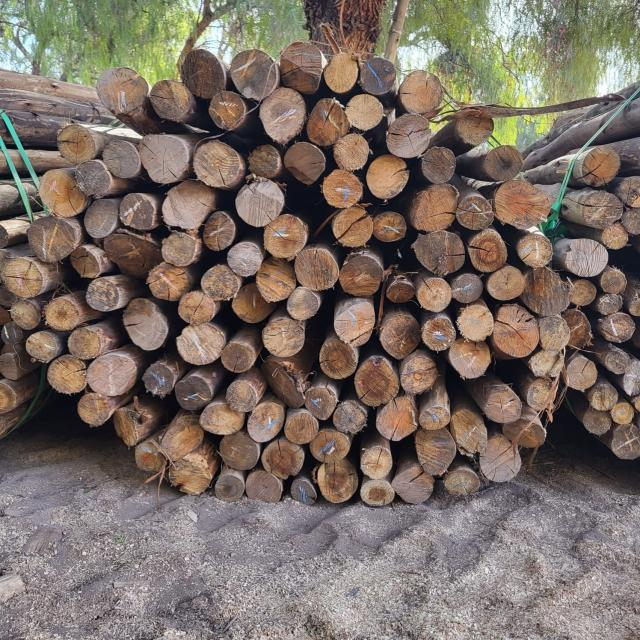package: (10, 43, 562, 507), (564, 86, 638, 465)
